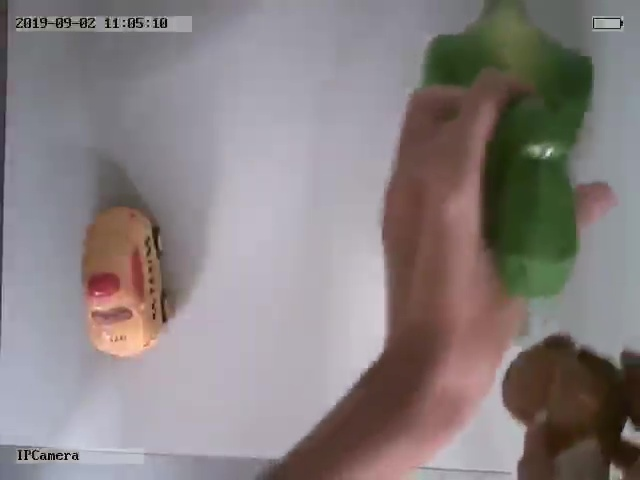car: (79, 206, 173, 360)
